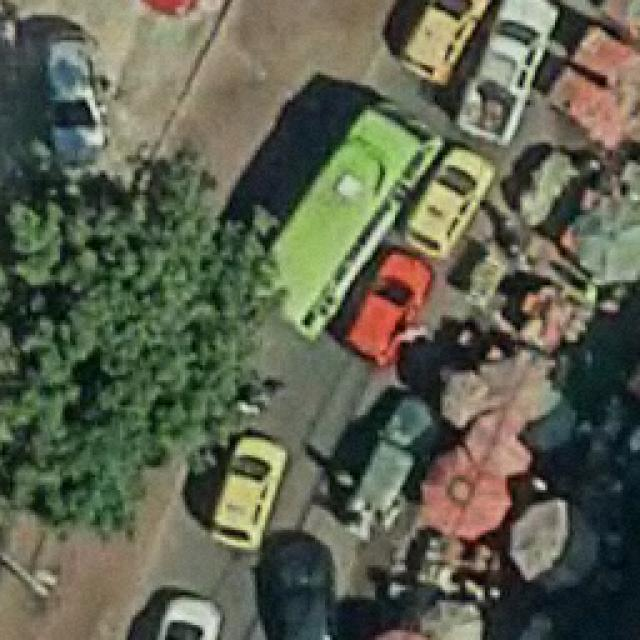vendedor_ambulante: (422, 443, 514, 540), (508, 496, 603, 588), (574, 187, 640, 288), (482, 344, 565, 421), (466, 406, 540, 477), (441, 365, 492, 431), (420, 592, 482, 640)
